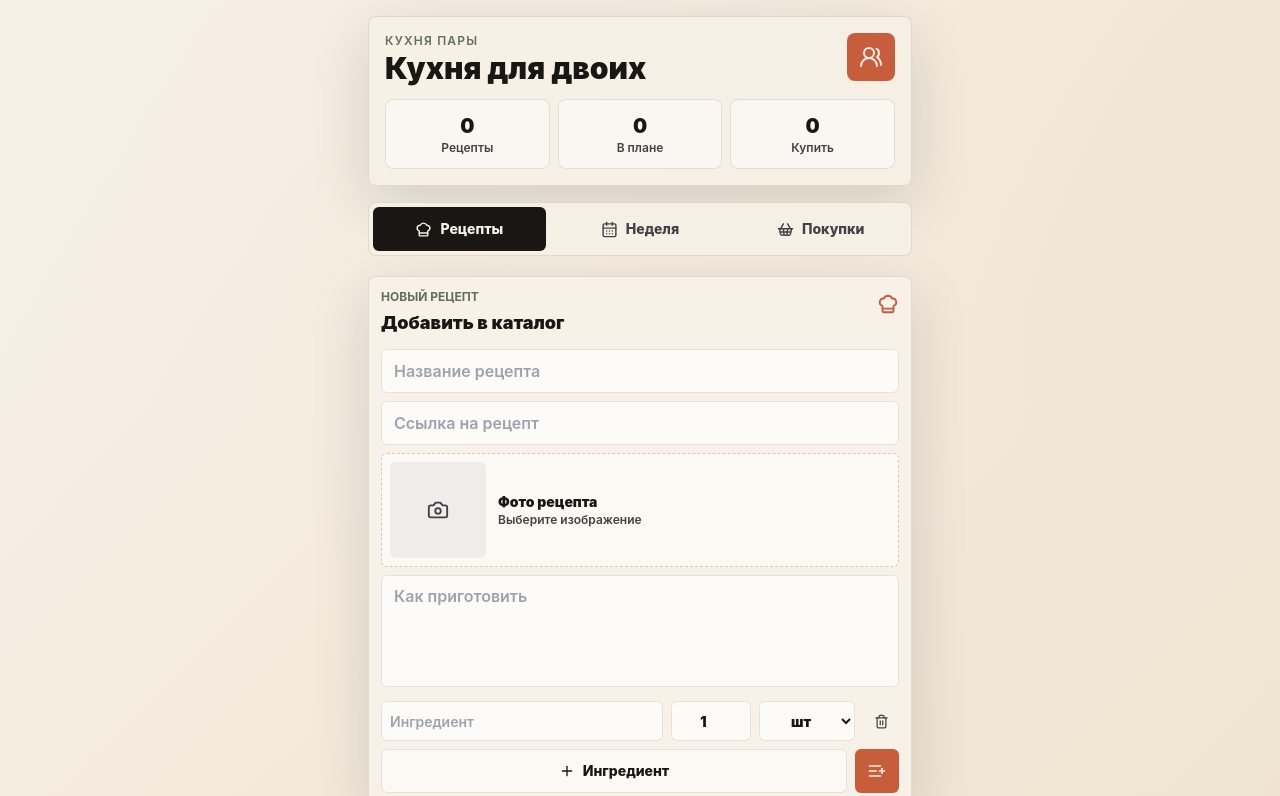
MiniApp › creates recipes through the server action instead of the recipes API
In the field labelled "Название рецепта": [640, 371] box [381,349,899,393], type "Сырники"
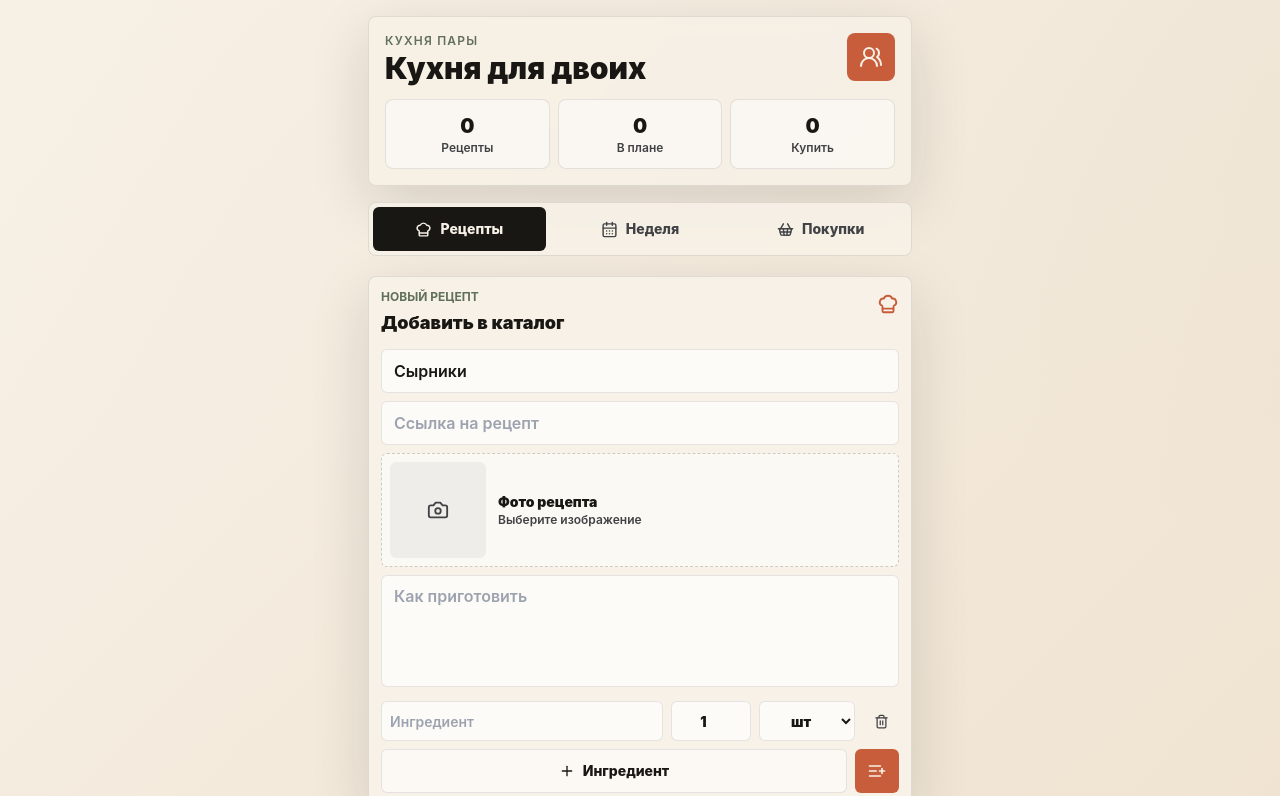
In the text box named "Рецепт приготовления": [640, 631] box [381,575,899,687], type "Смешать и обжарить."
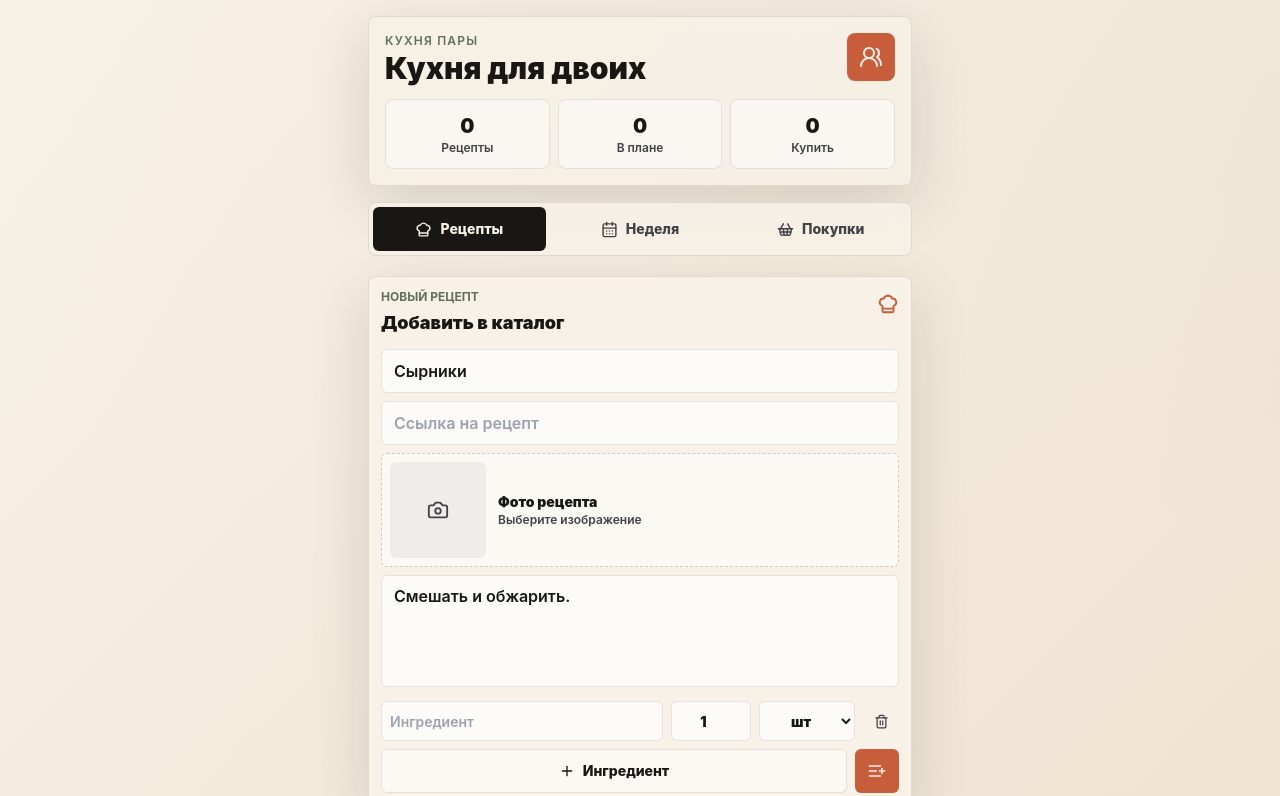
In the field named "Название ингредиента 1": [522, 721] box [381,701,663,741], type "Творог"
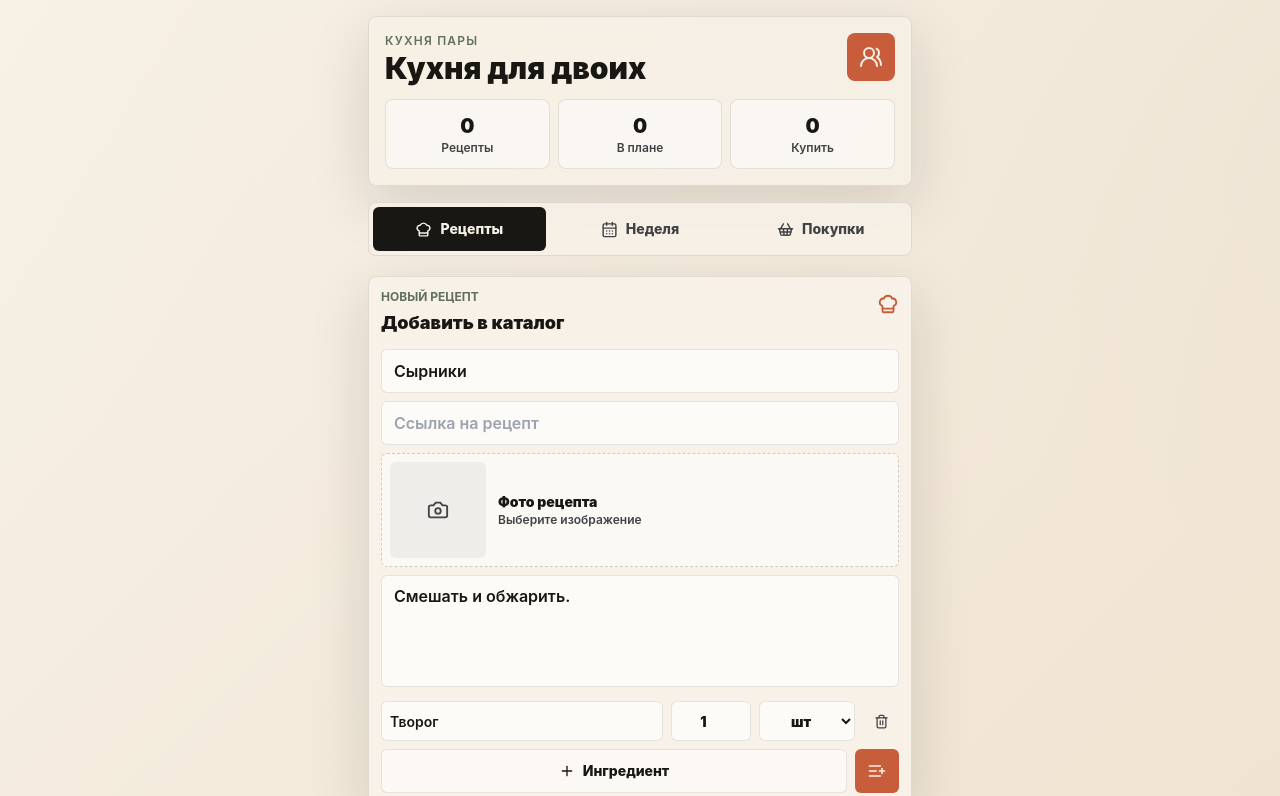
Replace the text in the number field named "Количество ингредиента 1" with "400": [711, 721] box [671,701,751,741]
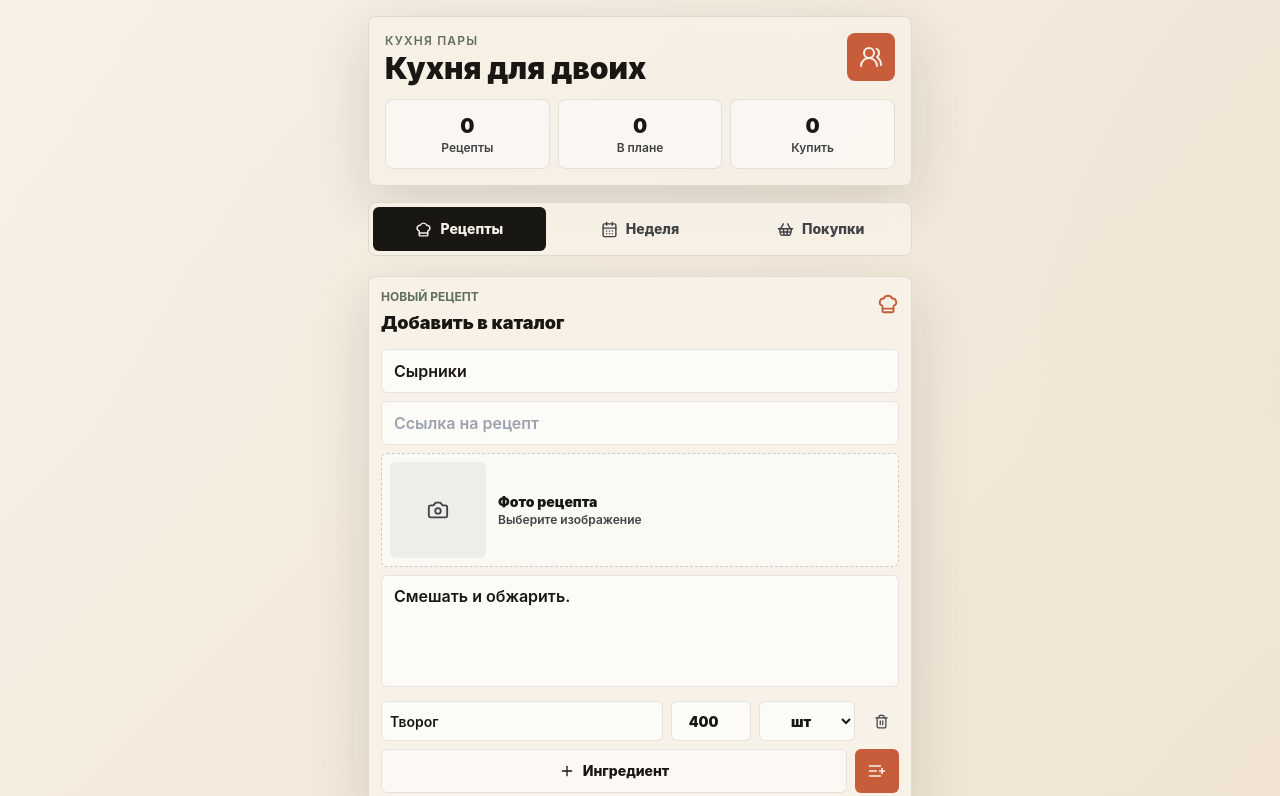
Select "г" in the dropdown named "Единица ингредиента 1": [807, 721] box [759,701,855,741]
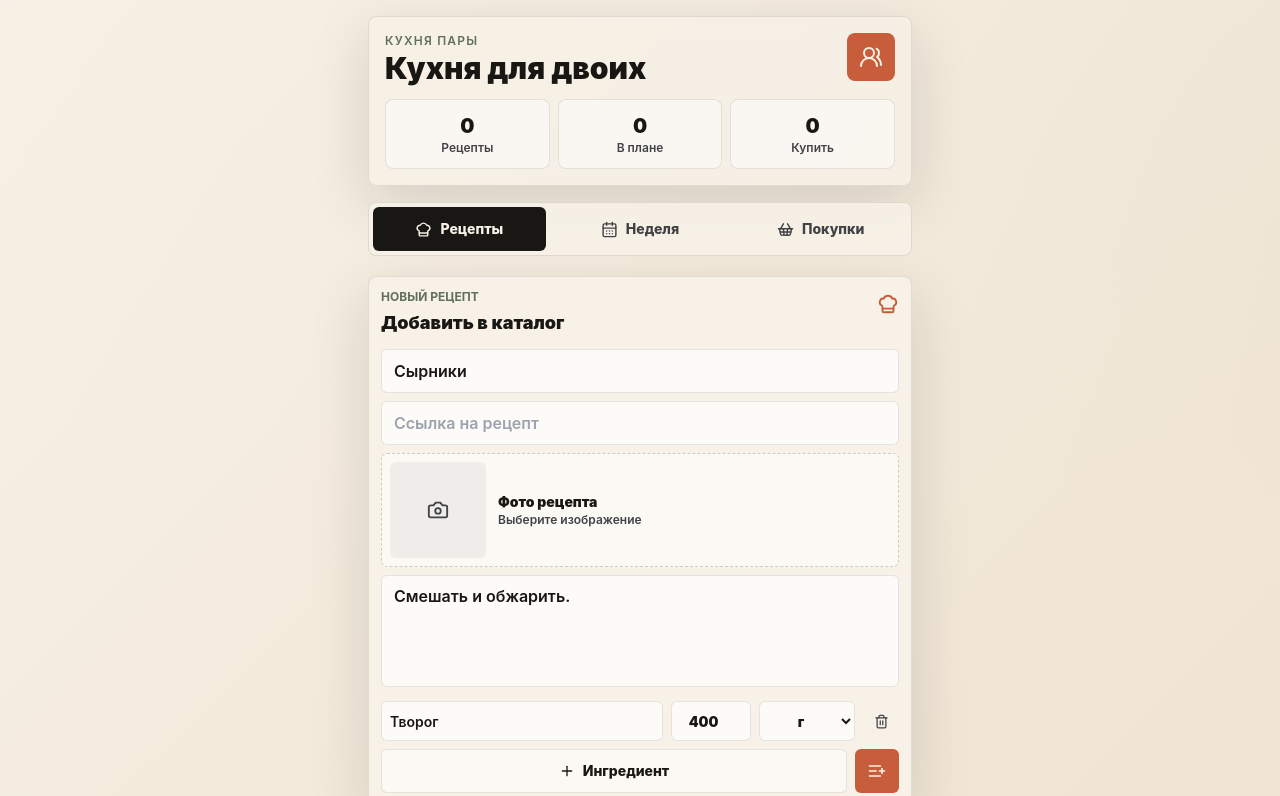
Click the button named "Добавить рецепт": [877, 771] box [855,749,899,793]
(page scrolled)
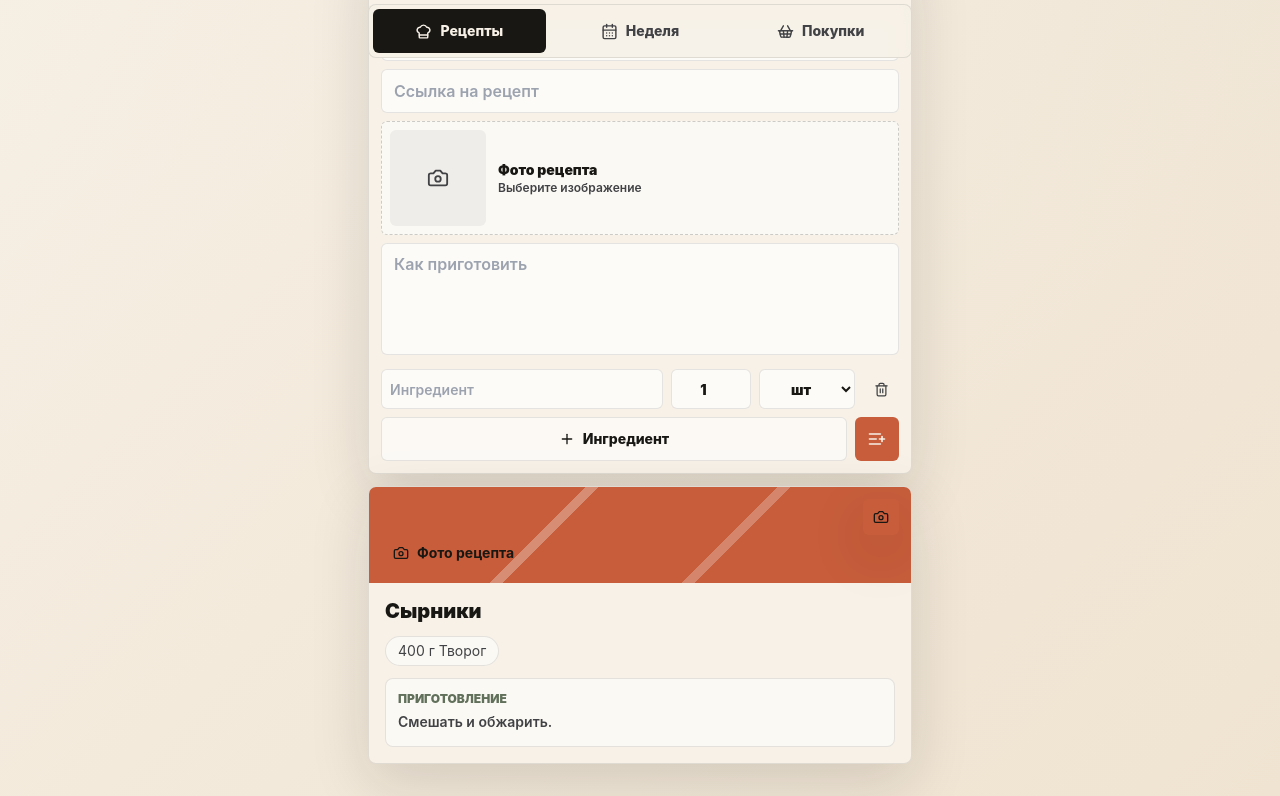
Result: the heading "Сырники" is shown at [385,599,482,623]
